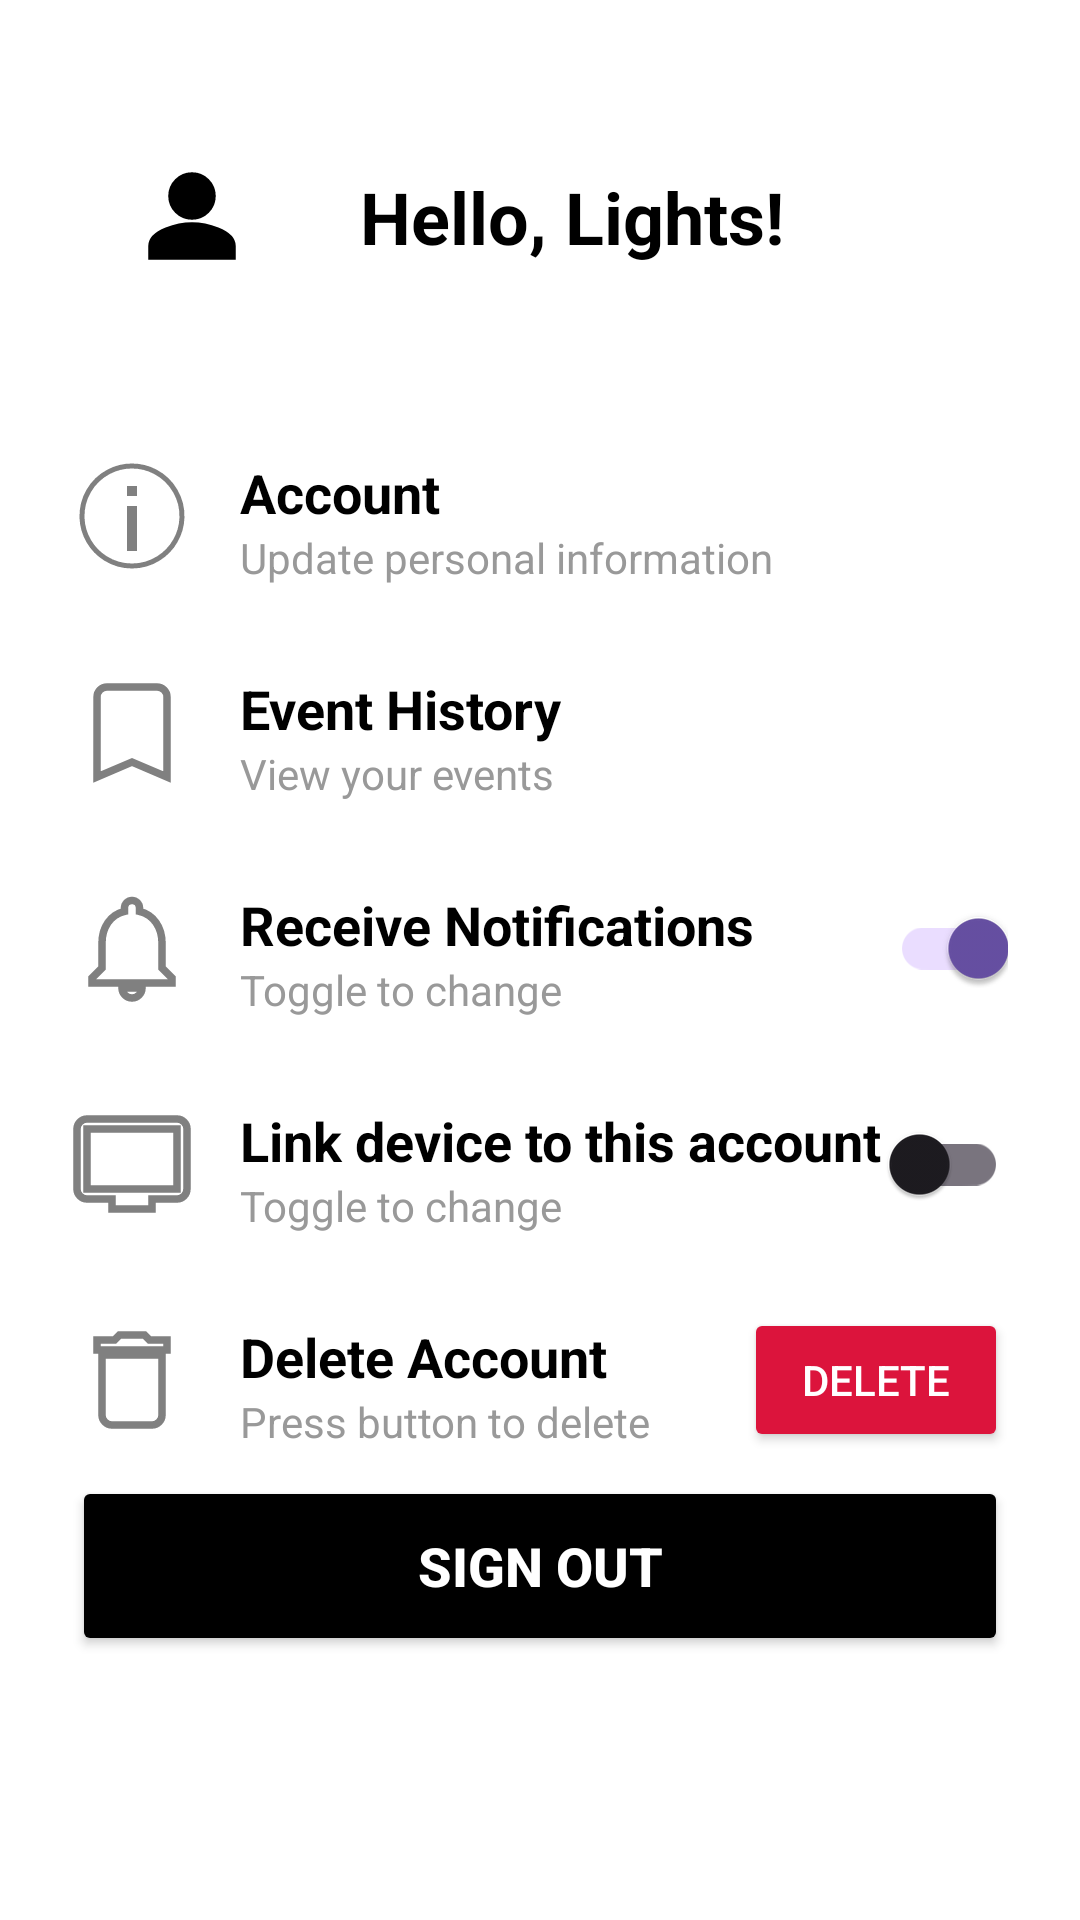

Icon bounding boxes for this 1080w x 1920h phone screenshot, format bbox(x1, y1, x2, y2):
Profile Picture: bbox(148, 172, 236, 260)
